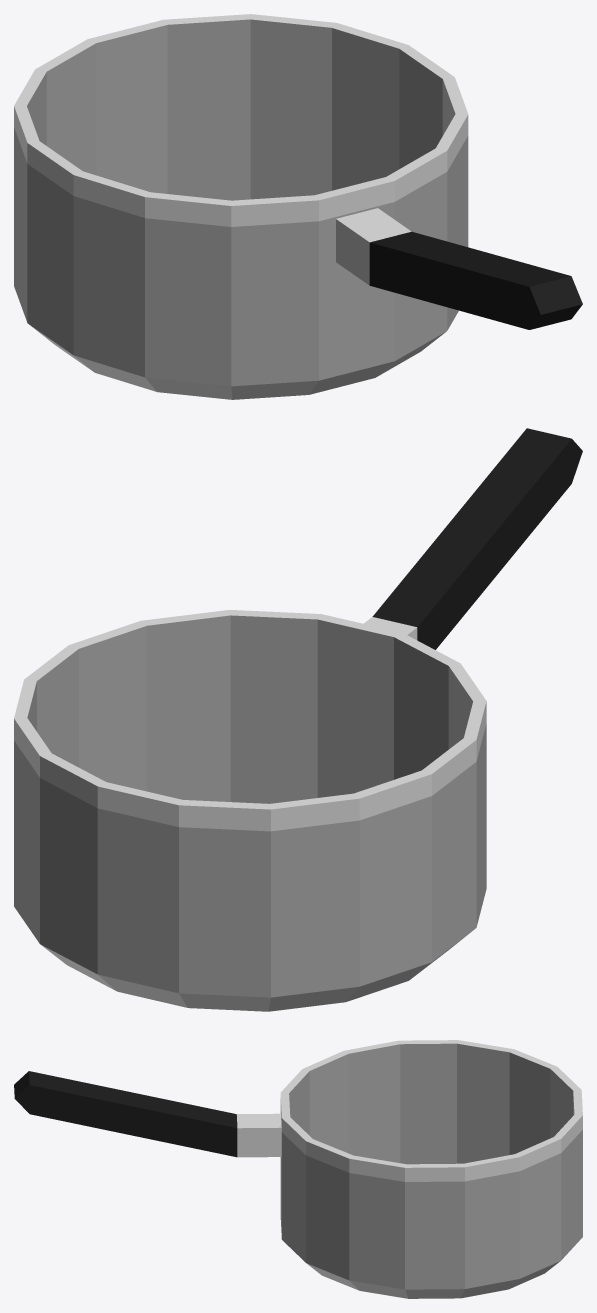
Rendered from SM_kitchenPot_01.glb.
The picture shows the model from 3 angles, top to bottom: view 1: azimuth 30°, elevation 25°; view 2: azimuth 150°, elevation 25°; view 3: azimuth 270°, elevation 25°; orthographic projection. The views are drawn at different scales.
Visible parts, largest first — view 1: SM_kitchenPot_01; view 2: SM_kitchenPot_01; view 3: SM_kitchenPot_01.
Part boxes in pixels (<box>): SM_kitchenPot_01: <box>14,14,582,399</box>; SM_kitchenPot_01: <box>14,428,582,1011</box>; SM_kitchenPot_01: <box>14,1040,582,1298</box>.
Bounding box in the file's own units: 0.2364 × 0.1456 × 0.4446.
1 material, 1 textured.
